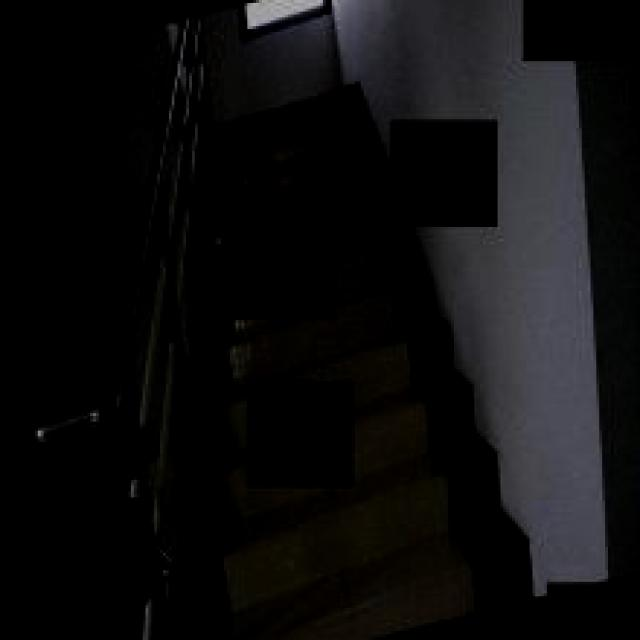upstair: (202, 149, 458, 640)
